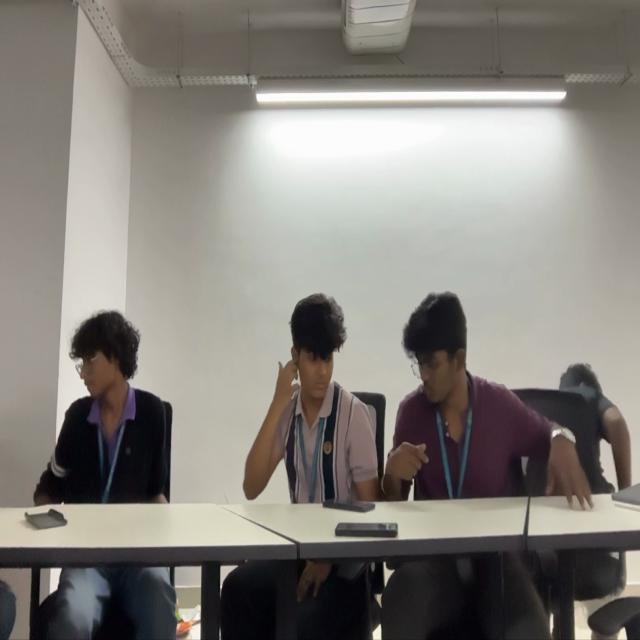Isolated: (30, 290, 161, 506)
socializing: (243, 285, 596, 514)
